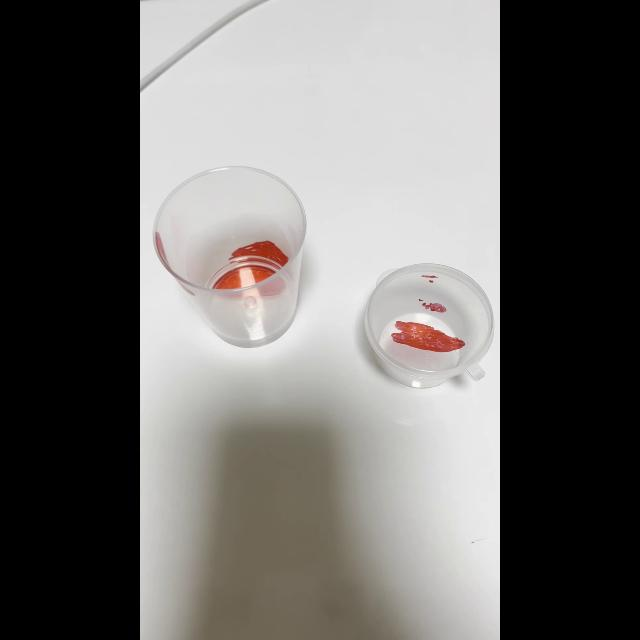dirty: (154, 168, 306, 346), (364, 264, 496, 388)
